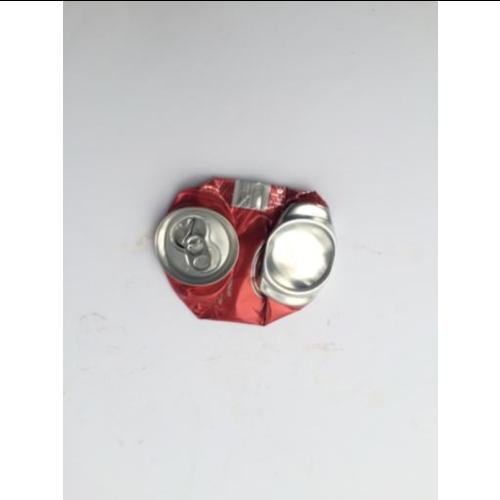metal: (160, 177, 336, 326)
